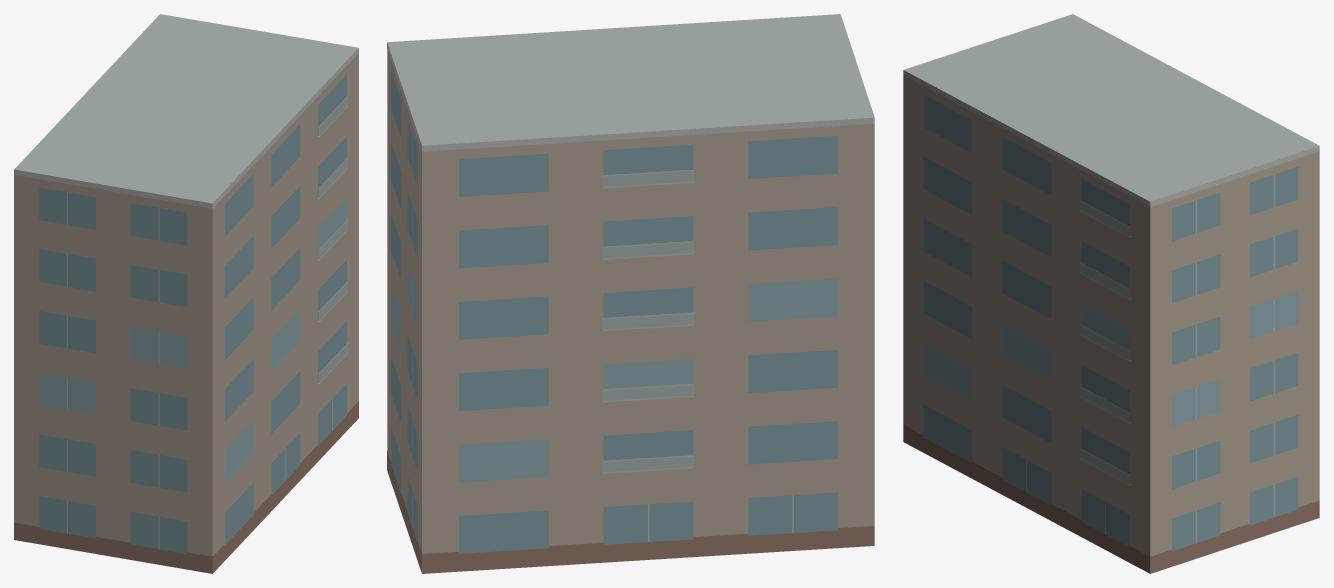
Rendered from survey-upis-32791714.glb.
3 views of the same model, side by side, from view 1: azimuth 30°, elevation 25°; view 2: azimuth 150°, elevation 25°; view 3: azimuth 270°, elevation 25° (orthographic). The views are drawn at different scales.
Visible parts, largest first — view 1: survey-upis-32791714.tmp; view 2: survey-upis-32791714.tmp; view 3: survey-upis-32791714.tmp.
Boxes of the visible parts, x1,y1,x2,y2 form: survey-upis-32791714.tmp: [14, 14, 358, 573]; survey-upis-32791714.tmp: [387, 14, 874, 573]; survey-upis-32791714.tmp: [903, 14, 1319, 573].
Bounding box in the file's own units: 18.63 × 17.2 × 17.45.
